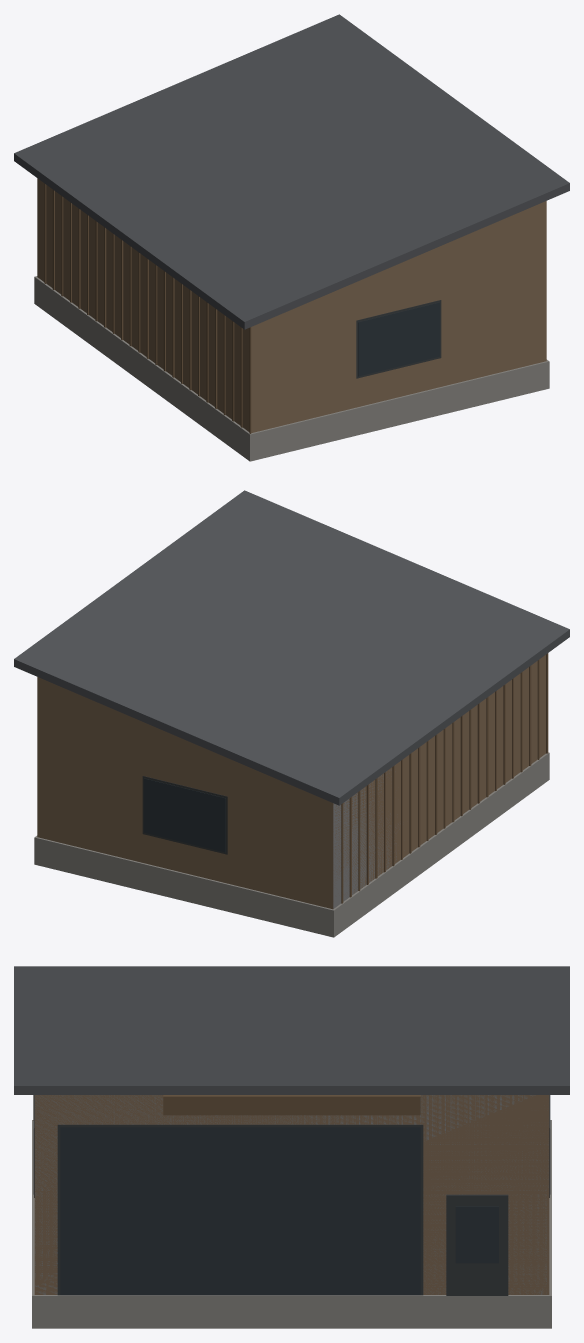
Rendered from SM_Prop_cafe_building_9_LOD1.glb.
The picture shows the model from 3 angles, top to bottom: view 1: azimuth 30°, elevation 25°; view 2: azimuth 150°, elevation 25°; view 3: azimuth 270°, elevation 25°; orthographic projection. The views are drawn at different scales.
Visible parts, largest first — view 1: SM_Prop_cafe_building_9_LOD1; view 2: SM_Prop_cafe_building_9_LOD1; view 3: SM_Prop_cafe_building_9_LOD1.
Part boxes in pixels (bbox=[...]): SM_Prop_cafe_building_9_LOD1: bbox=[14, 14, 569, 461]; SM_Prop_cafe_building_9_LOD1: bbox=[14, 490, 569, 937]; SM_Prop_cafe_building_9_LOD1: bbox=[14, 966, 569, 1328].
Bounding box in the file's own units: 8.8 × 5.37 × 10.8.
